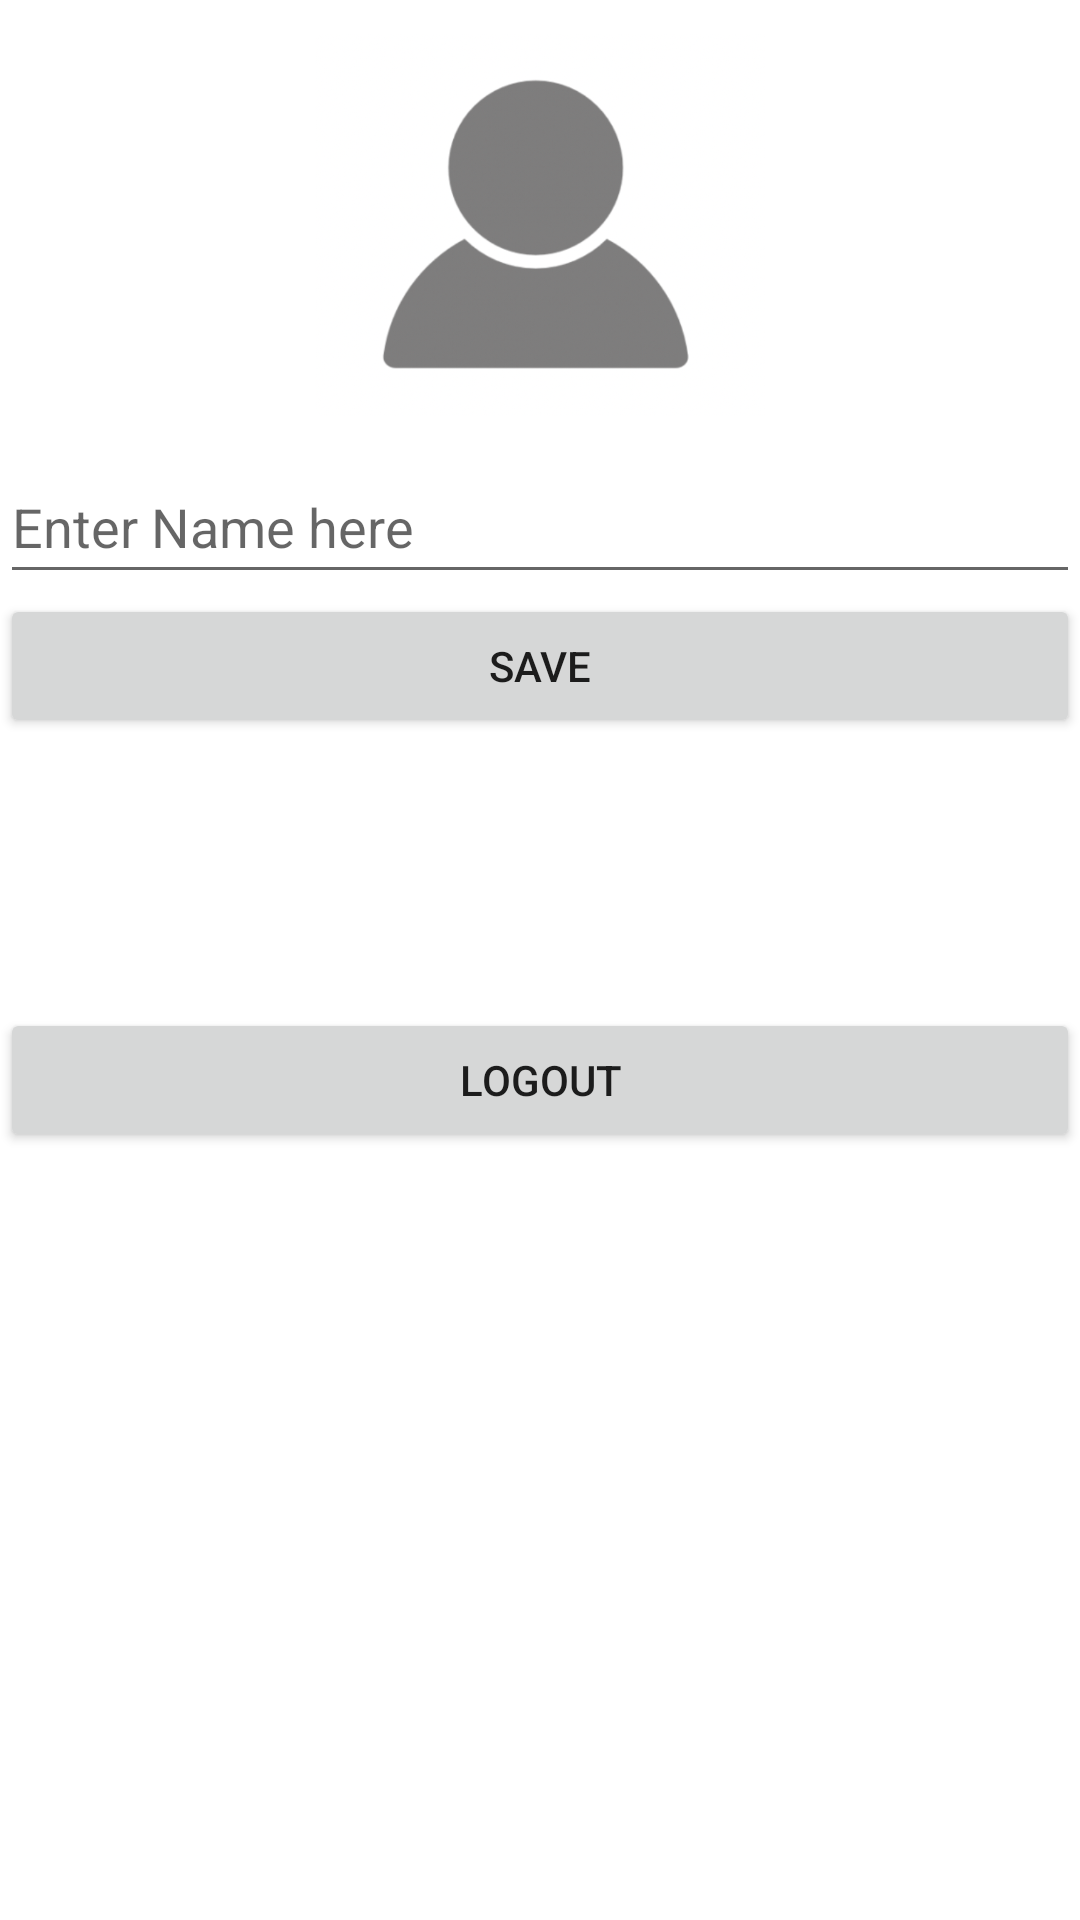

Point at icon controls on the screen. Image size 1080px×1920px, points as (x=x, y=y).
profile: (x=536, y=224)
